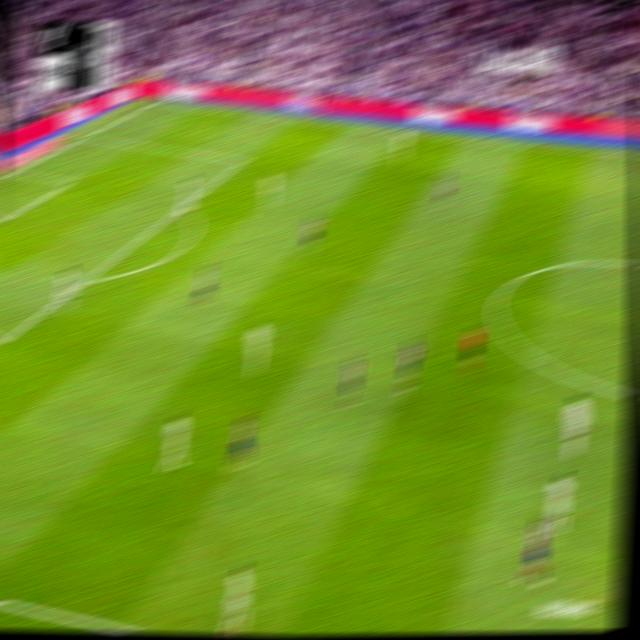bigarea_top_inner: (235, 154, 248, 165)
bigarea_top_outter: (80, 131, 93, 139)
bottom_arc_area_intersection: (80, 273, 93, 284)
corner: (146, 96, 162, 105)
smallarea_top_inner: (64, 177, 75, 185)
top_arc_area_intersection: (175, 199, 191, 212)
